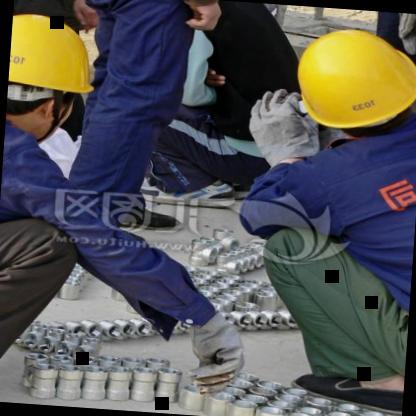helmet: (288, 21, 416, 148), (4, 7, 99, 148)
